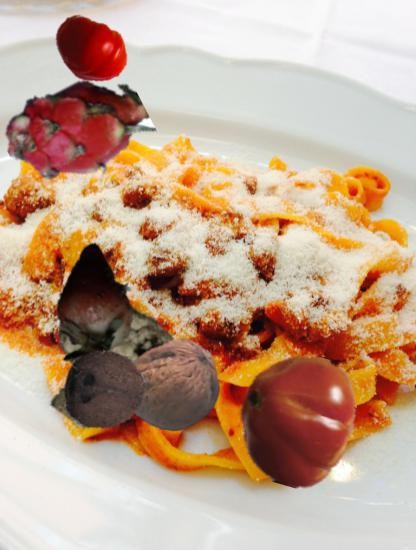Cauliflower: (38, 297, 185, 444)
Cocos: (59, 345, 147, 433)
Pitahaya: (8, 64, 151, 207)
Strawberry: (33, 251, 147, 365)
Tomato: (230, 353, 364, 487), (53, 9, 131, 87)
Walnut: (126, 337, 223, 434)
